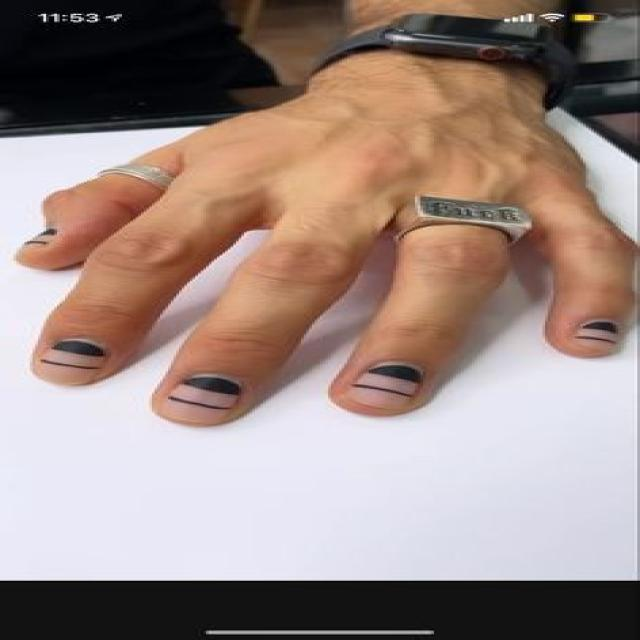Fingernail: (161, 373, 242, 425), (346, 359, 422, 410), (38, 339, 108, 387), (573, 319, 620, 350), (17, 226, 62, 254)
